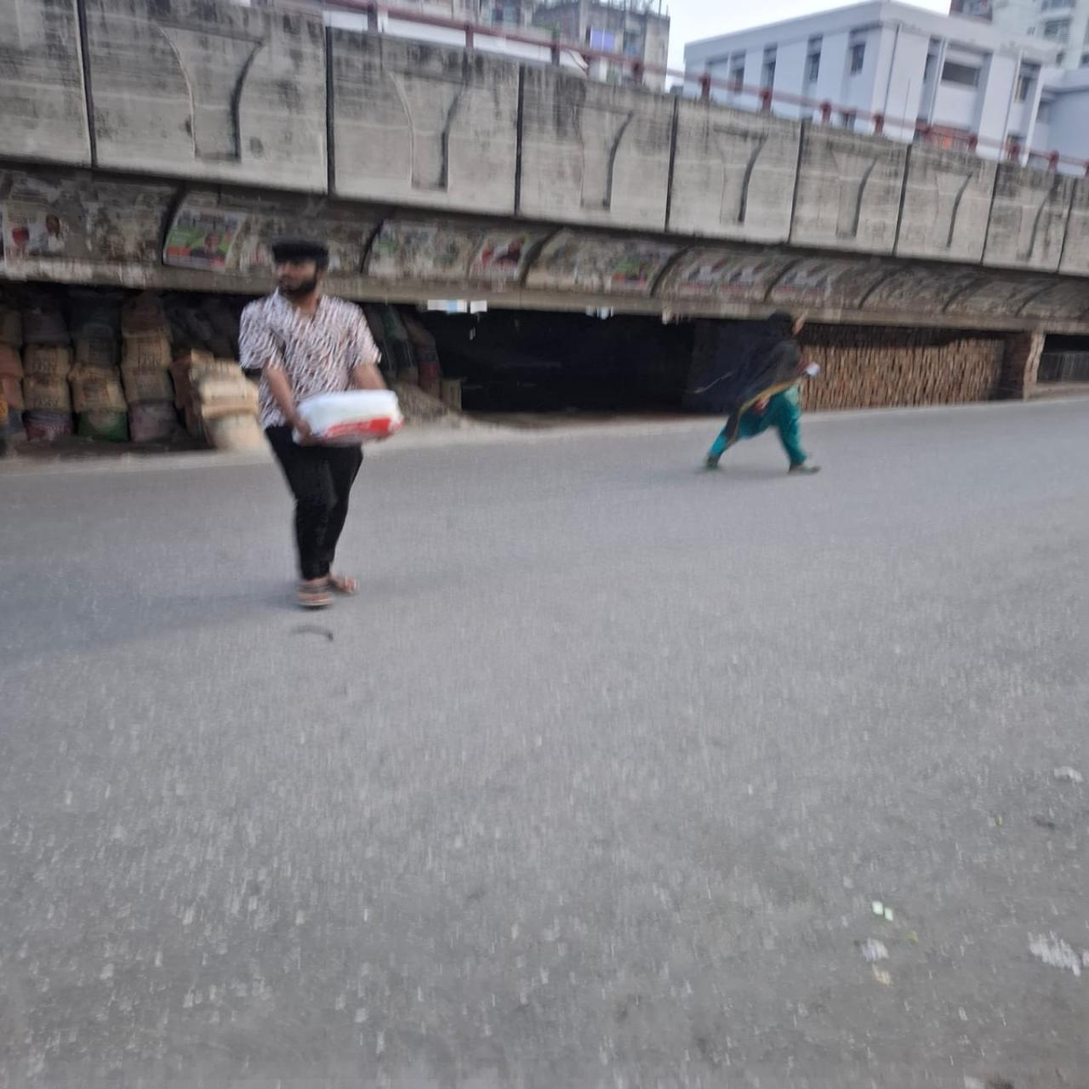person: (244, 235, 401, 628), (696, 306, 824, 481)
